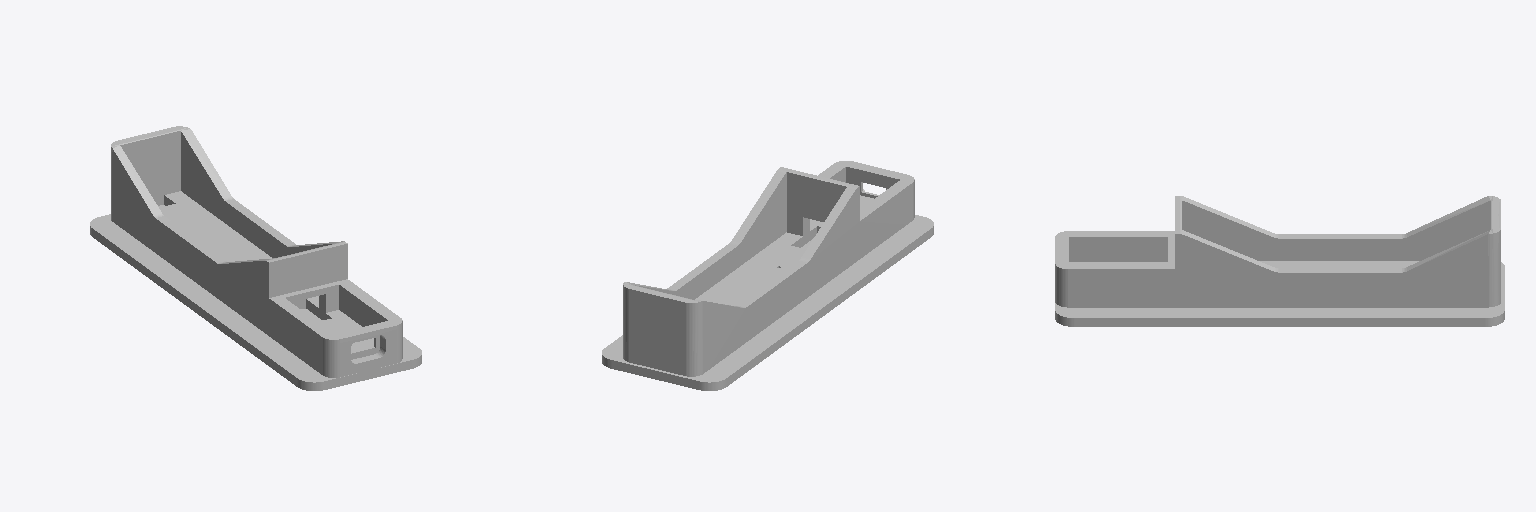
File: sensor-pod-body.obj
3 renders of one model, left to right at view 1: azimuth 30°, elevation 25°; view 2: azimuth 150°, elevation 25°; view 3: azimuth 270°, elevation 25°, orthographic.
Visible parts, largest first — view 1: 18650_Ladegeraet_V002; view 2: 18650_Ladegeraet_V002; view 3: 18650_Ladegeraet_V002.
Boxes of the visible parts, <box> form: 18650_Ladegeraet_V002: <box>90,126,421,390</box>; 18650_Ladegeraet_V002: <box>602,161,933,390</box>; 18650_Ladegeraet_V002: <box>1055,196,1504,326</box>.
Bounding box in the file's own units: 40.41 × 26.04 × 129.